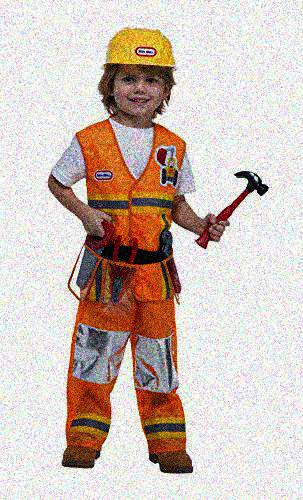helmet: (97, 27, 177, 119)
